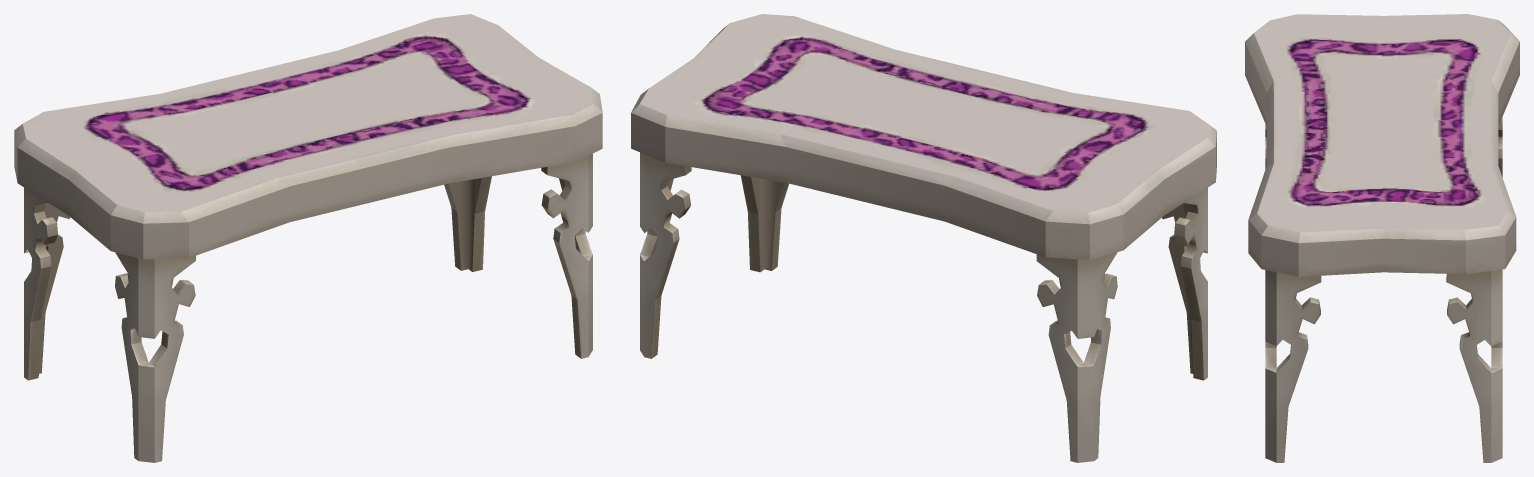
Rendered from furni_0200080_02.FBX.
3 views of the same model, side by side, from view 1: azimuth 30°, elevation 25°; view 2: azimuth 150°, elevation 25°; view 3: azimuth 270°, elevation 25° (orthographic). The views are drawn at different scales.
Parts seen in each view (by area): view 1: furni_0200080_02; view 2: furni_0200080_02; view 3: furni_0200080_02.
Part boxes in pixels (bbox=[...]): furni_0200080_02: bbox=[14, 14, 602, 462]; furni_0200080_02: bbox=[631, 14, 1216, 462]; furni_0200080_02: bbox=[1245, 14, 1519, 462].
Bounding box in the file's own units: 165 × 80.26 × 84.88.
Materials: 1 (1 with a texture image).
